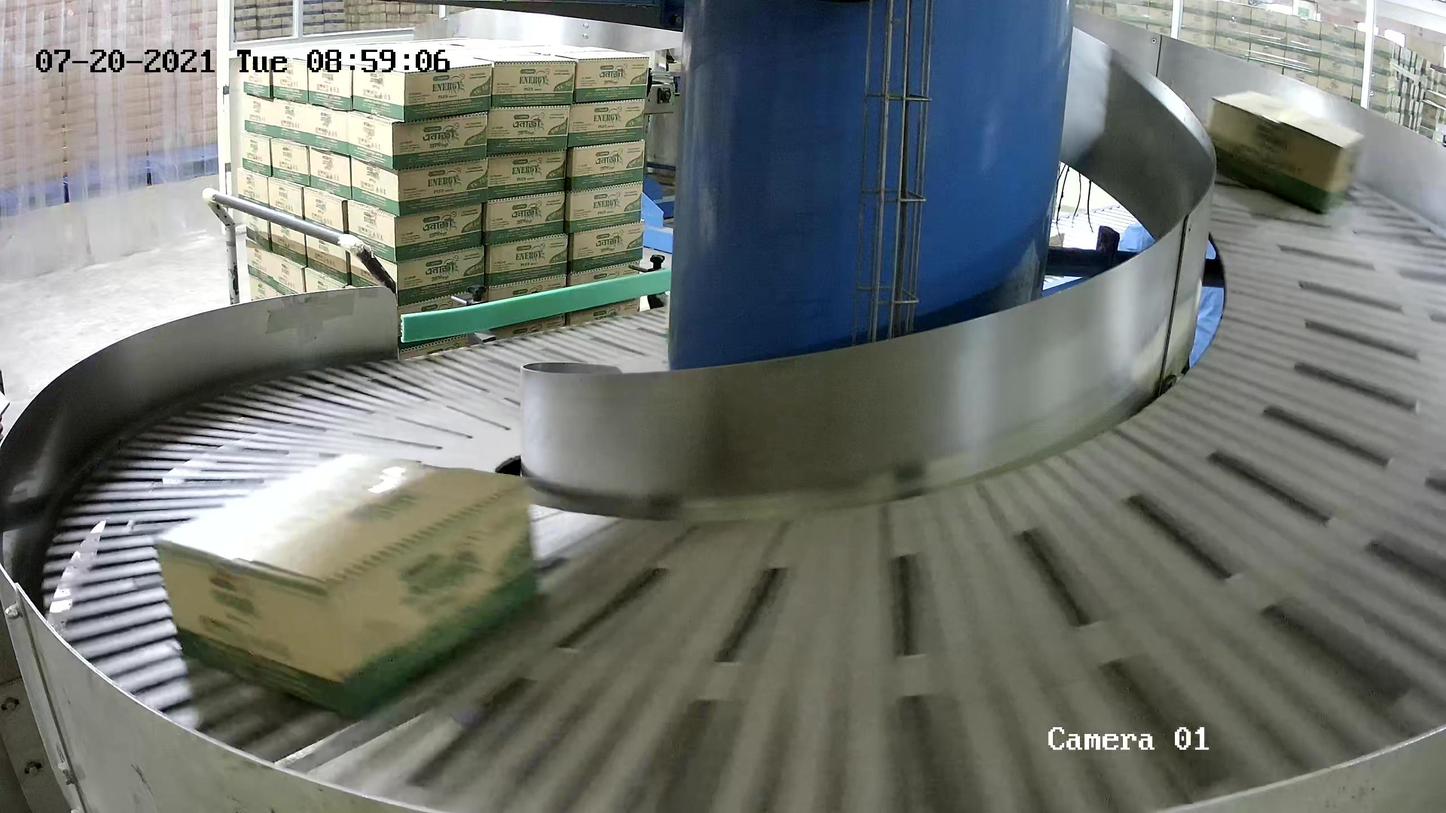Box: (147, 448, 542, 720), (1202, 88, 1369, 217)
